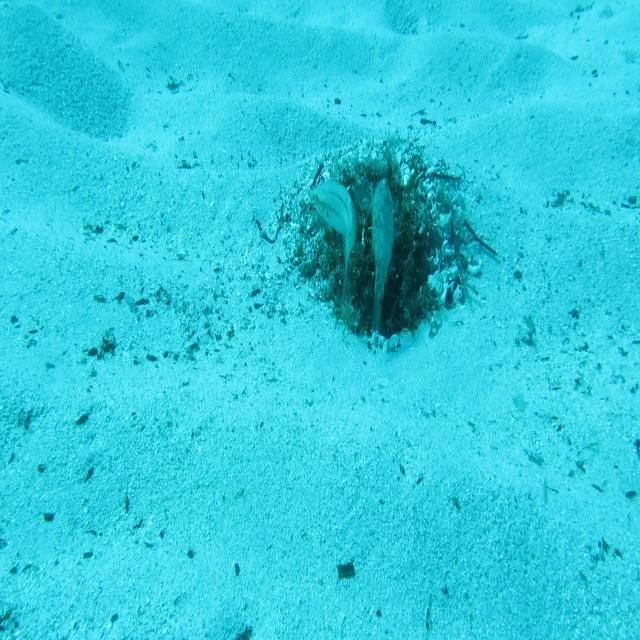ROLL: (367, 175, 397, 332)
core_nest: (346, 177, 402, 230)
female: (306, 176, 358, 282)
nest: (268, 132, 493, 372)
vegetation: (334, 564, 356, 580)
